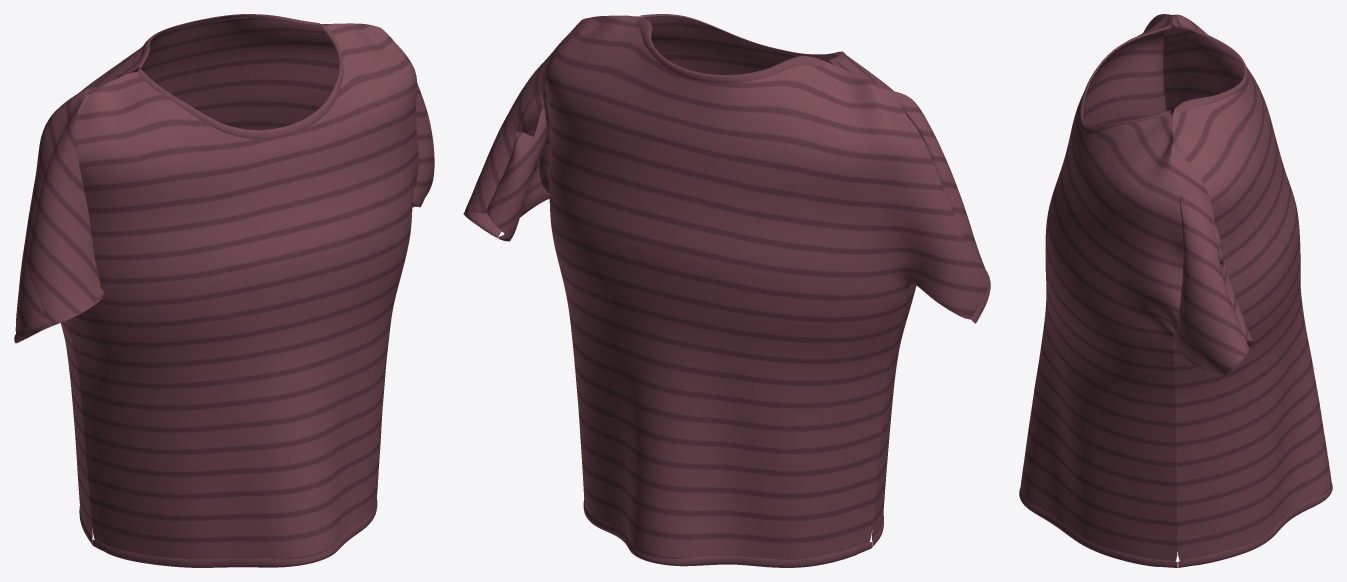
File: 连袖短衫.glb
3 views of the same model, side by side, from view 1: azimuth 30°, elevation 25°; view 2: azimuth 150°, elevation 25°; view 3: azimuth 270°, elevation 25° (orthographic). The views are drawn at different scales.
Parts seen in each view (by area): view 1: 前身连袖, 后身连袖, 前身连袖 包边, 后身连袖 包边; view 2: 后身连袖, 前身连袖, 后身连袖 包边; view 3: 前身连袖, 后身连袖, 前身连袖 包边, 后身连袖 包边.
Part boxes in pixels (x1,y1,x2,y2): 前身连袖: (21,23,420,567); 后身连袖: (15,14,434,538); 前身连袖 包边: (18,24,413,567); 后身连袖 包边: (14,14,319,544); 后身连袖: (464,15,988,567); 前身连袖: (487,15,982,540); 后身连袖 包边: (463,17,990,567); 前身连袖: (1020,14,1252,566); 后身连袖: (1143,14,1331,565); 前身连袖 包边: (1019,25,1253,567); 后身连袖 包边: (1173,26,1332,567).
Bounding box in the file's own units: 0.484 × 0.4786 × 0.305.
4 materials, 4 textured.
